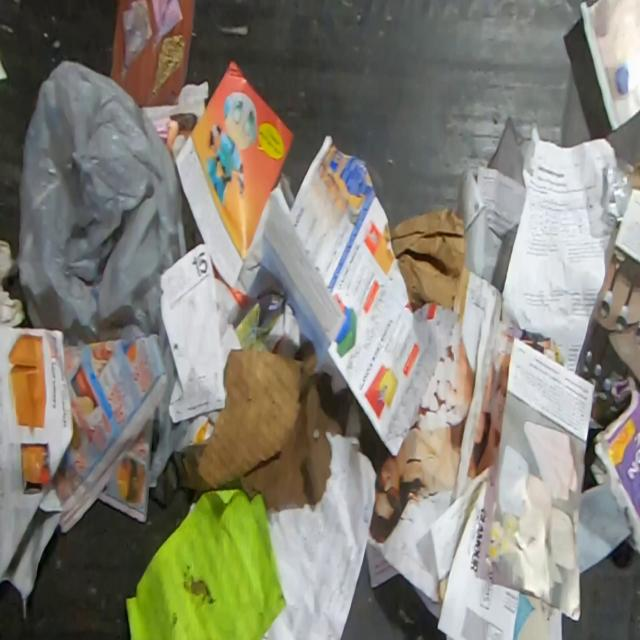cardboard: (148, 339, 354, 512), (588, 374, 640, 559), (390, 206, 470, 317)
soft_plastic: (14, 57, 193, 488), (603, 153, 636, 224)
